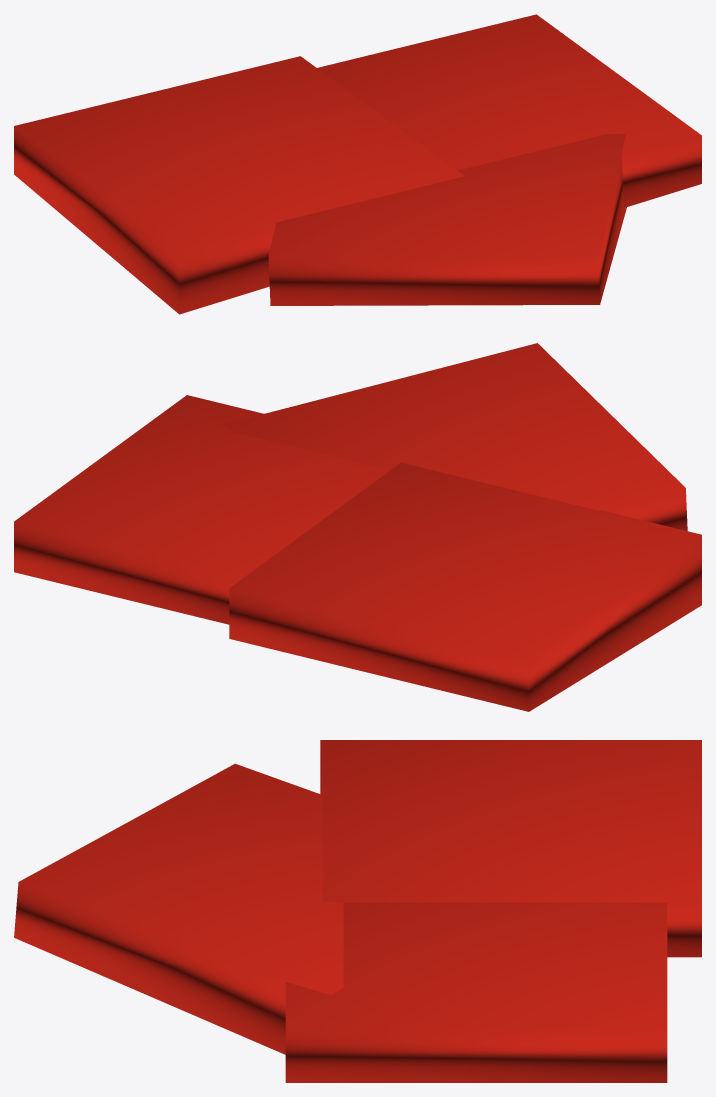
File: Tomates.glb
The picture shows the model from 3 angles, top to bottom: view 1: azimuth 30°, elevation 25°; view 2: azimuth 150°, elevation 25°; view 3: azimuth 270°, elevation 25°; orthographic projection. The views are drawn at different scales.
Parts seen in each view (by area): view 1: Tomate1, Tomate2, Tomate3; view 2: Tomate1, Tomate3, Tomate2; view 3: Tomate3, Tomate1, Tomate2.
Part boxes in pixels (x1,y1,x2,y2): Tomate1: (14,56,464,314); Tomate2: (268,134,626,305); Tomate3: (317,14,701,207); Tomate1: (229,462,701,711); Tomate3: (14,395,389,624); Tomate2: (225,343,687,530); Tomate3: (285,902,667,1082); Tomate1: (320,740,701,957); Tomate2: (14,763,343,1054).
Size of the model in its own units: 2.1 by 0.3394 by 2.13.
